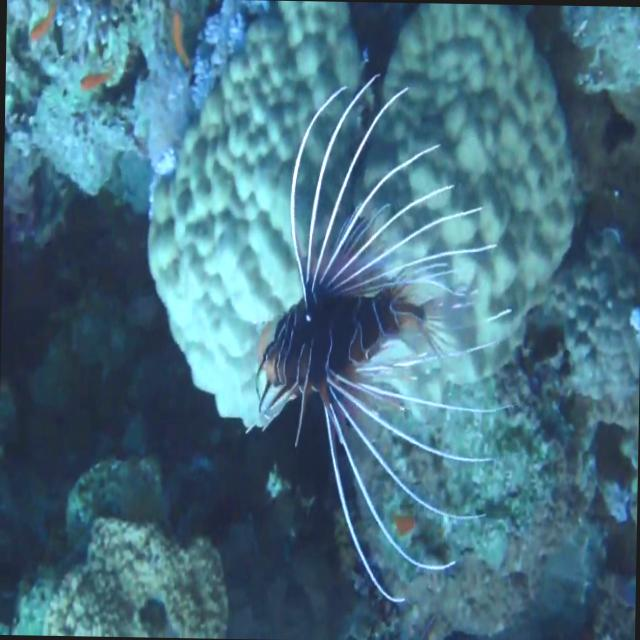Aslan Baligi: (243, 68, 520, 607)
